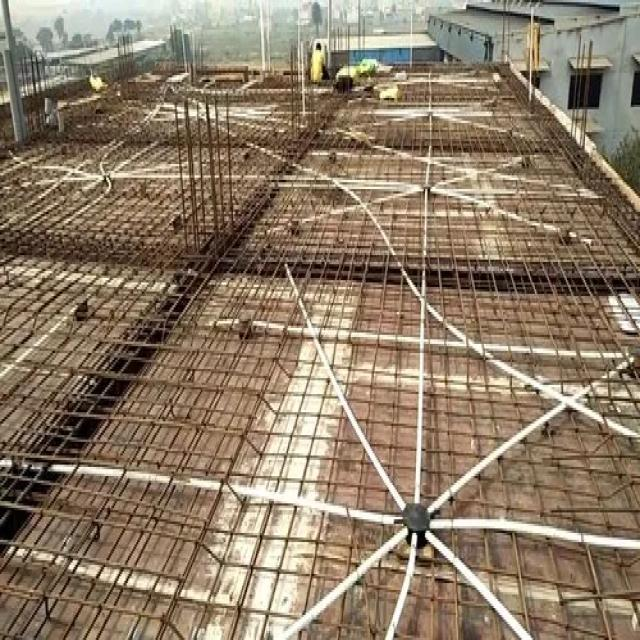Plumbing and Electrical: (330, 84, 590, 640)
